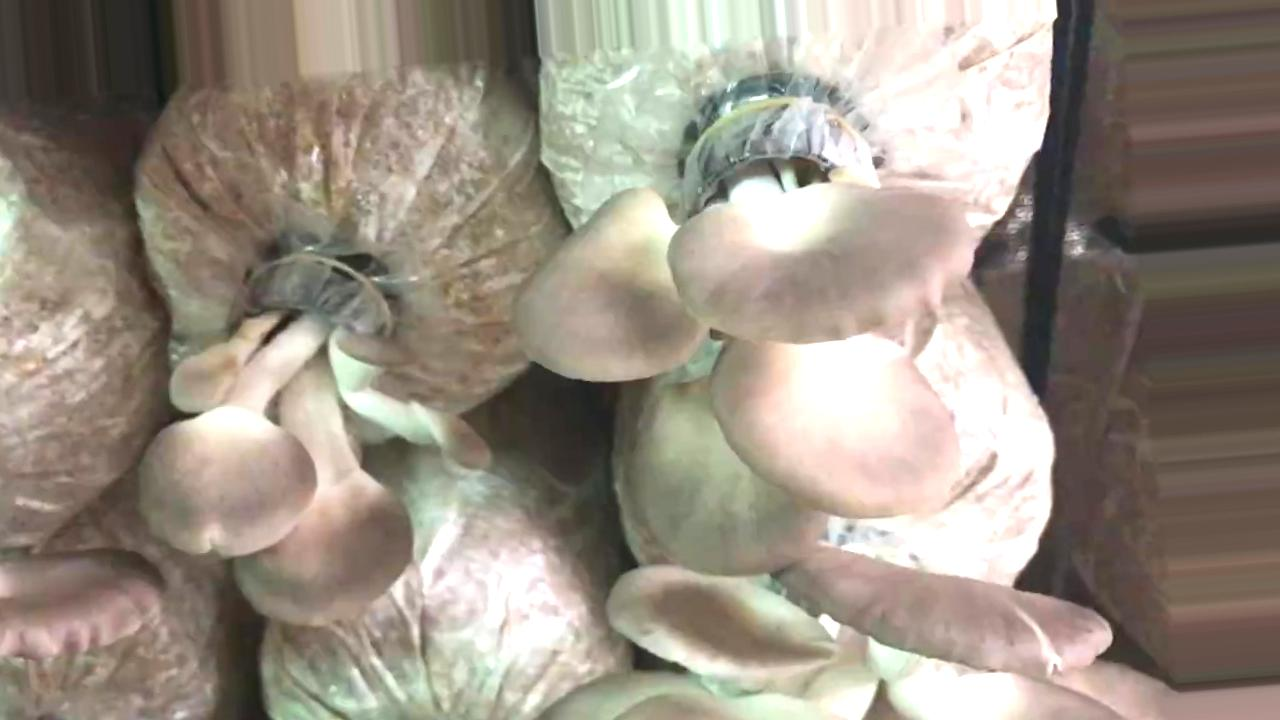nam: (516, 92, 967, 567), (525, 545, 1280, 720), (141, 257, 489, 628), (1, 552, 160, 651)
